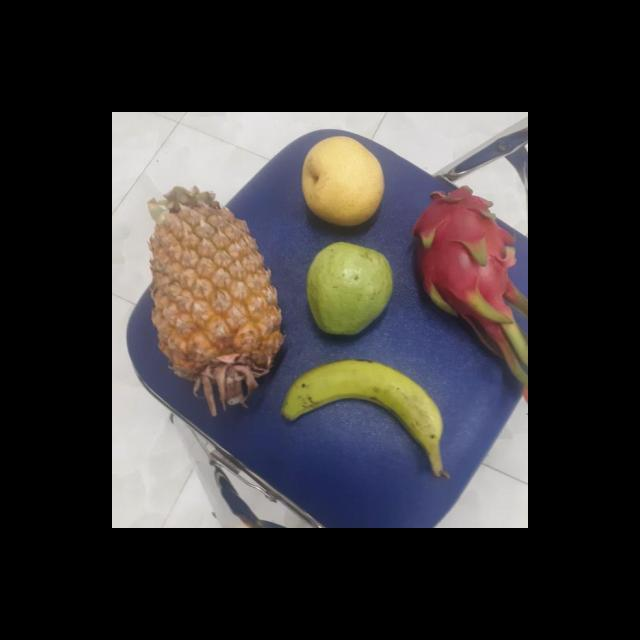banana: (293, 358, 452, 462)
guava: (308, 244, 397, 336)
pear: (299, 138, 391, 228)
pineapple: (152, 194, 282, 404)
pitaya: (412, 186, 522, 318)
